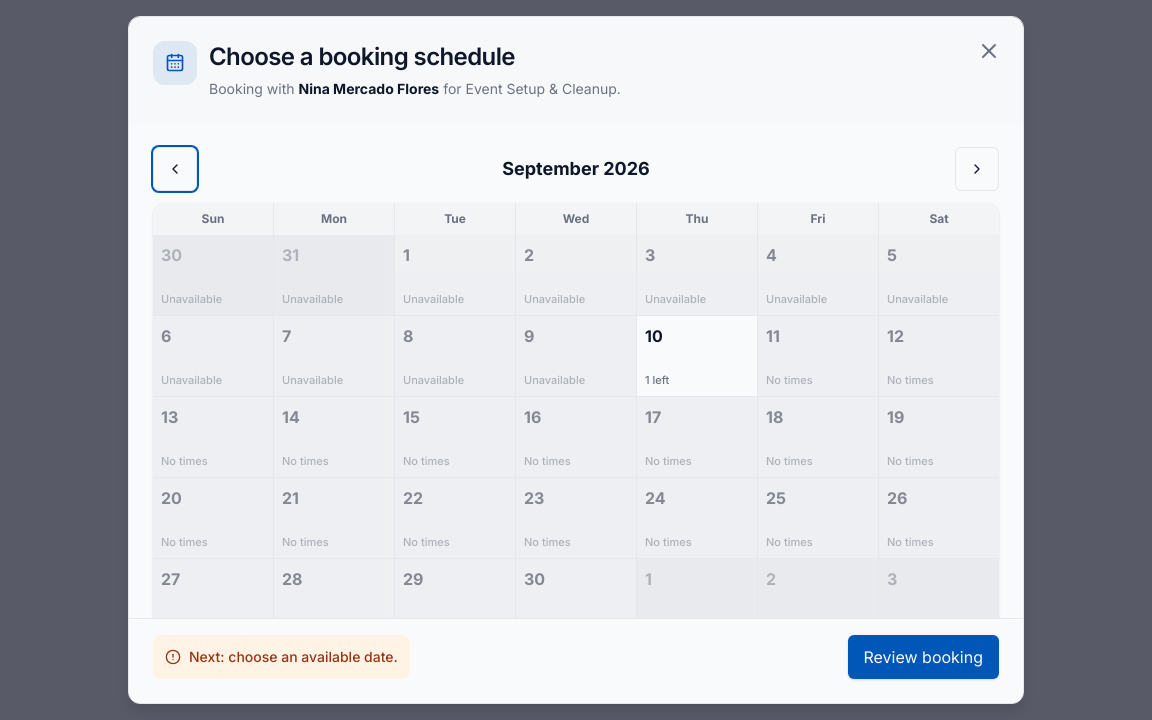
BookingCalendarModal › clearly directs the user to select a required time
Click the cell named "Thursday, September 10, 2026, 1 slot available". click: [697, 356]
box: [637,316,757,396]
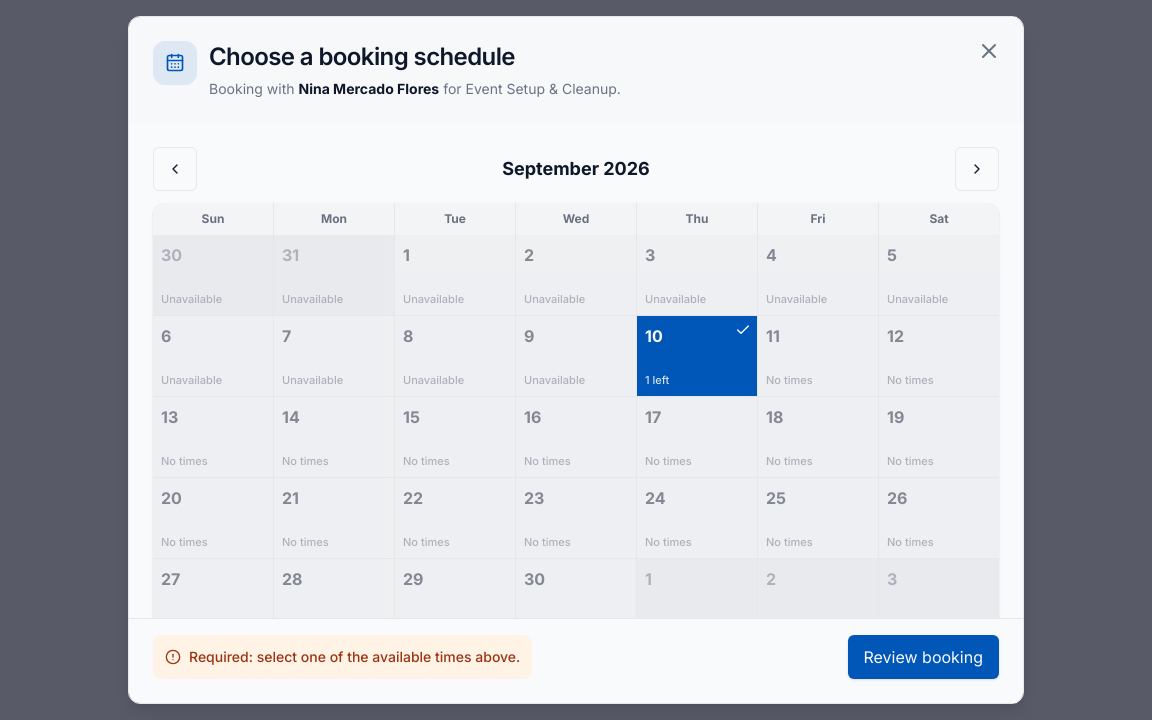
Check: the text "Required: select one of the available times above." is shown, box [189,647,520,667]
Click the button "Review booking". click: [923, 657]
box: [848,635,999,679]
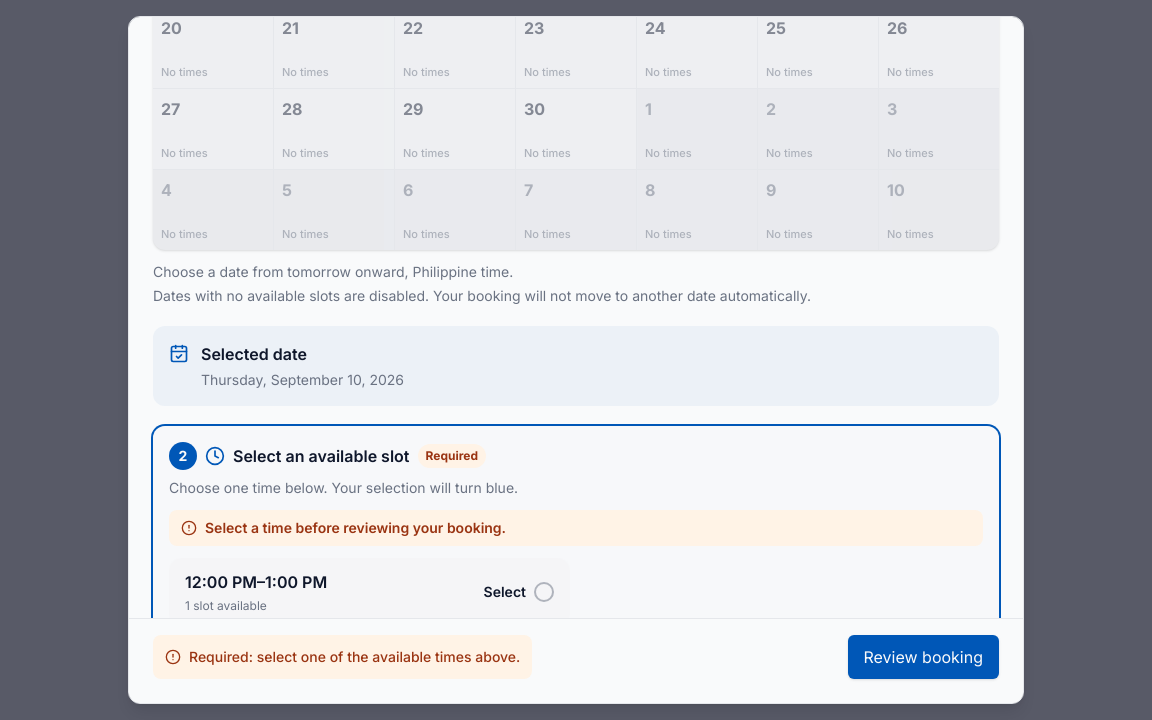
Check: the message reads "Select a time before reviewing your booking.", box [205,519,506,536]
